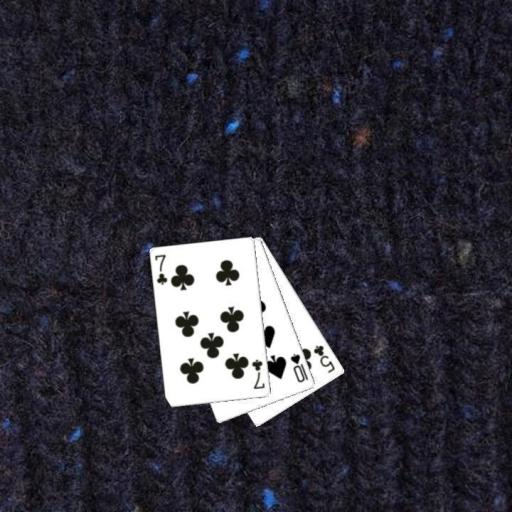card-corner: (311, 342, 337, 375), (287, 351, 310, 384), (249, 356, 267, 391), (152, 251, 170, 286)
